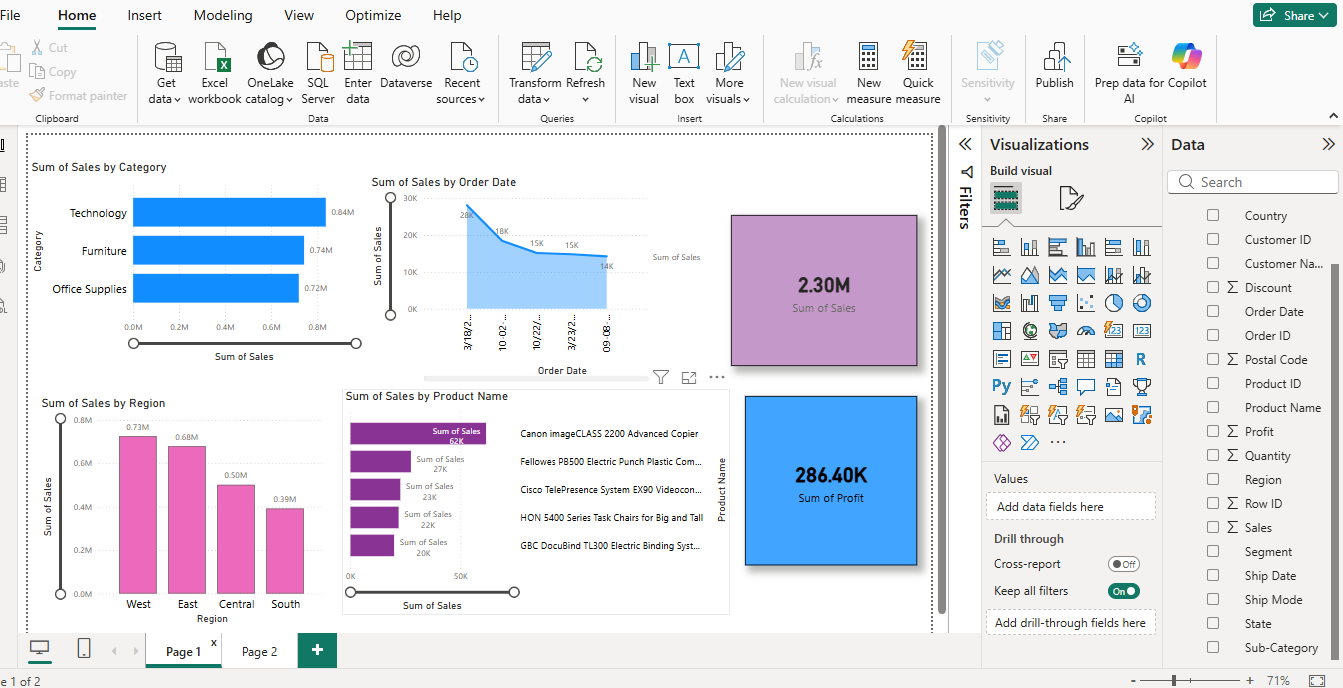

The page's visual inventory and layout, read from the dashboard file:
{"tool":"powerbi","page":{"name":"Page 1","canvas":[1280,720],"ordinal":0},"visuals":[{"type":"lineChart","fields":{"Category":["Sample - Superstore.Order Date"],"Y":["Sum(Sample - Superstore.Sales)"]},"box":[481.9,56.7,476.3,297.7],"z":0},{"type":"clusteredBarChart","fields":{"Category":["Sample - Superstore.Category"],"Y":["Sum(Sample - Superstore.Sales)"]},"box":[0,35.4,483.4,292],"z":1000},{"type":"clusteredColumnChart","fields":{"Category":["Sample - Superstore.Region"],"Y":["Sum(Sample - Superstore.Sales)"]},"box":[14,370,412,328],"z":2000},{"type":"clusteredBarChart","fields":{"Category":["Sample - Superstore.Product Name"],"Y":["Sum(Sample - Superstore.Sales)"]},"box":[445,360,550,320],"z":3000},{"type":"card","fields":{"Values":["Sum(Sample - Superstore.Sales)"]},"box":[996,114,264,214],"z":4000},{"type":"card","fields":{"Values":["Sum(Sample - Superstore.Profit)"]},"box":[1016,370,244,240],"z":5000}]}

Visuals, with their boxes on the page's 1280x720 design canvas (x1, y1, x2, y2). These are canvas units, not pixel positions in the 1343x688 screenshot, which may show the page scaled, cropped or inside an application window:
lineChart - Sample - Superstore.Order Date x Sum(Sample - Superstore.Sales): {"left": 482, "top": 57, "right": 958, "bottom": 354}
clusteredBarChart - Sample - Superstore.Category x Sum(Sample - Superstore.Sales): {"left": 0, "top": 35, "right": 483, "bottom": 327}
clusteredColumnChart - Sample - Superstore.Region x Sum(Sample - Superstore.Sales): {"left": 14, "top": 370, "right": 426, "bottom": 698}
clusteredBarChart - Sample - Superstore.Product Name x Sum(Sample - Superstore.Sales): {"left": 445, "top": 360, "right": 995, "bottom": 680}
card - Sum(Sample - Superstore.Sales): {"left": 996, "top": 114, "right": 1260, "bottom": 328}
card - Sum(Sample - Superstore.Profit): {"left": 1016, "top": 370, "right": 1260, "bottom": 610}
